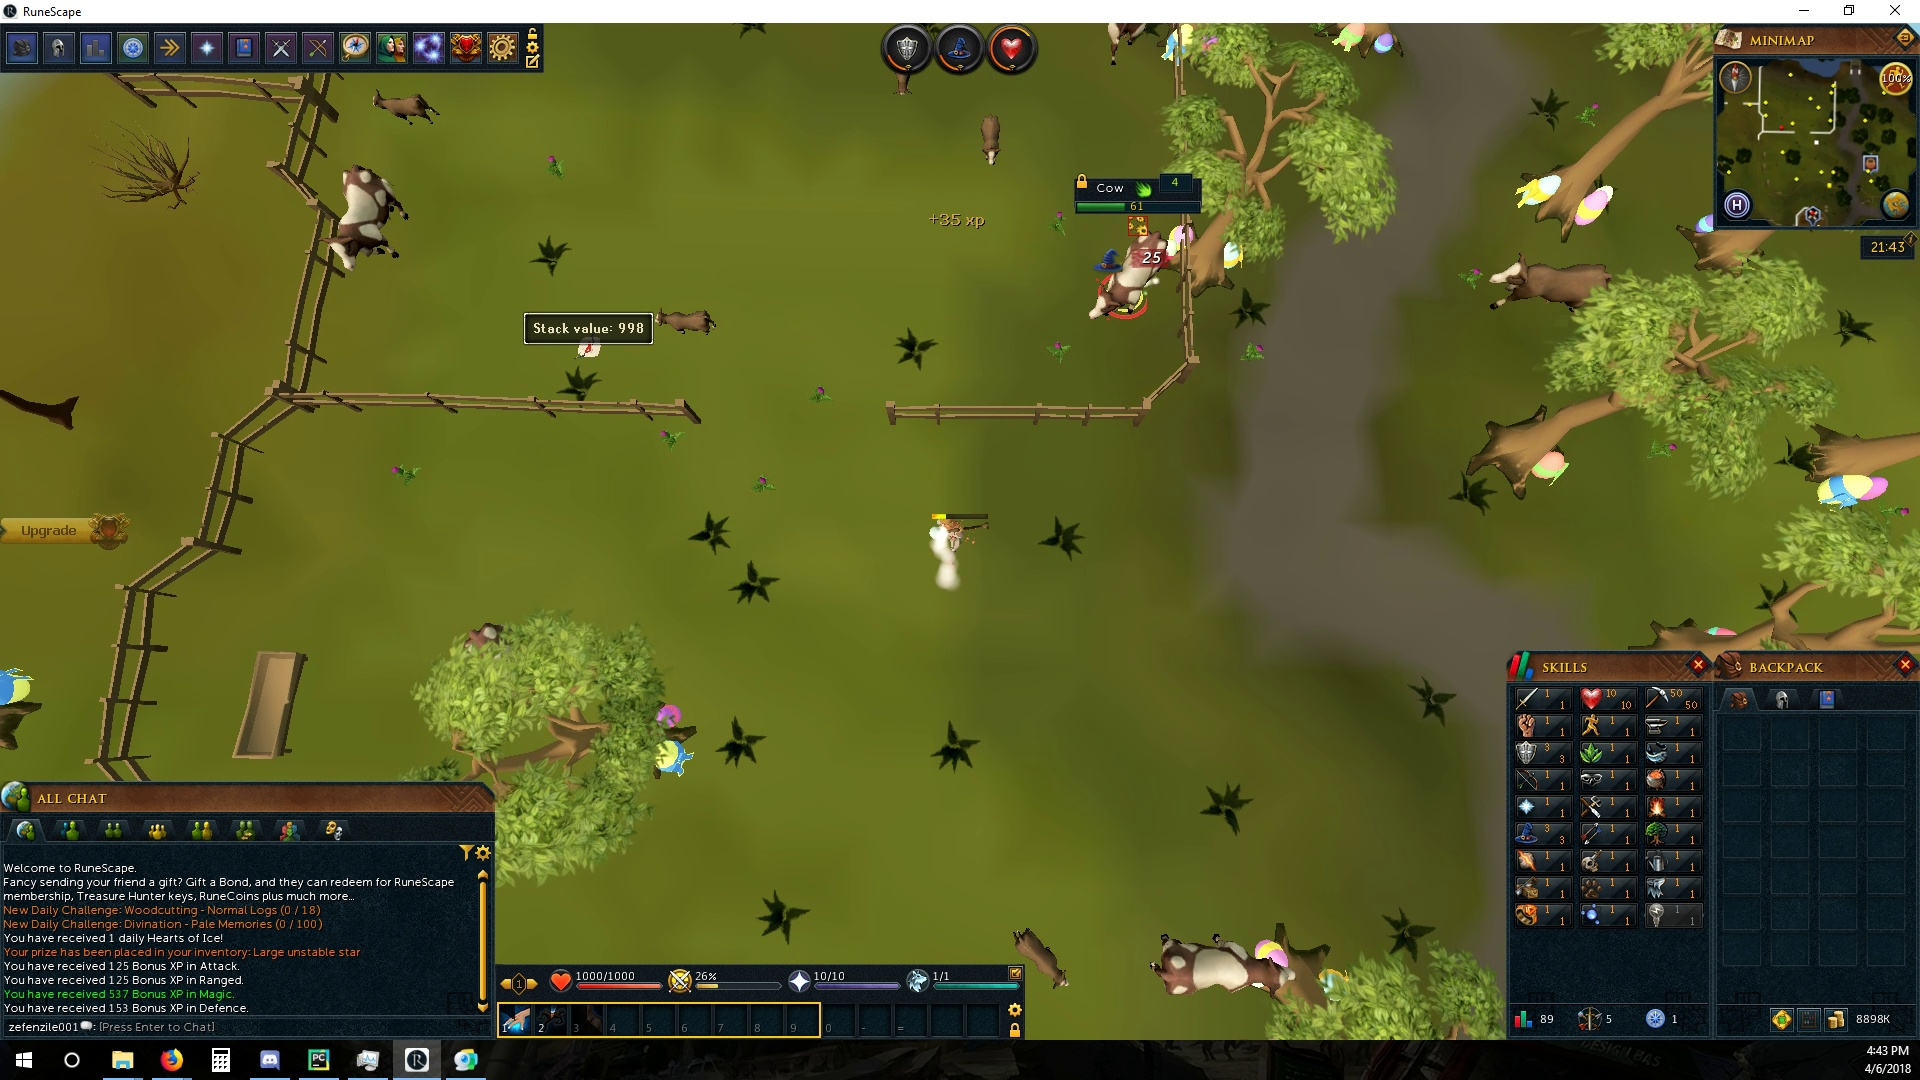calf: (1011, 926, 1073, 992), (371, 88, 440, 127), (647, 309, 721, 338), (981, 113, 1002, 169)
cow: (307, 161, 413, 274), (1145, 928, 1298, 1002), (1482, 249, 1619, 324), (1080, 232, 1170, 324)
